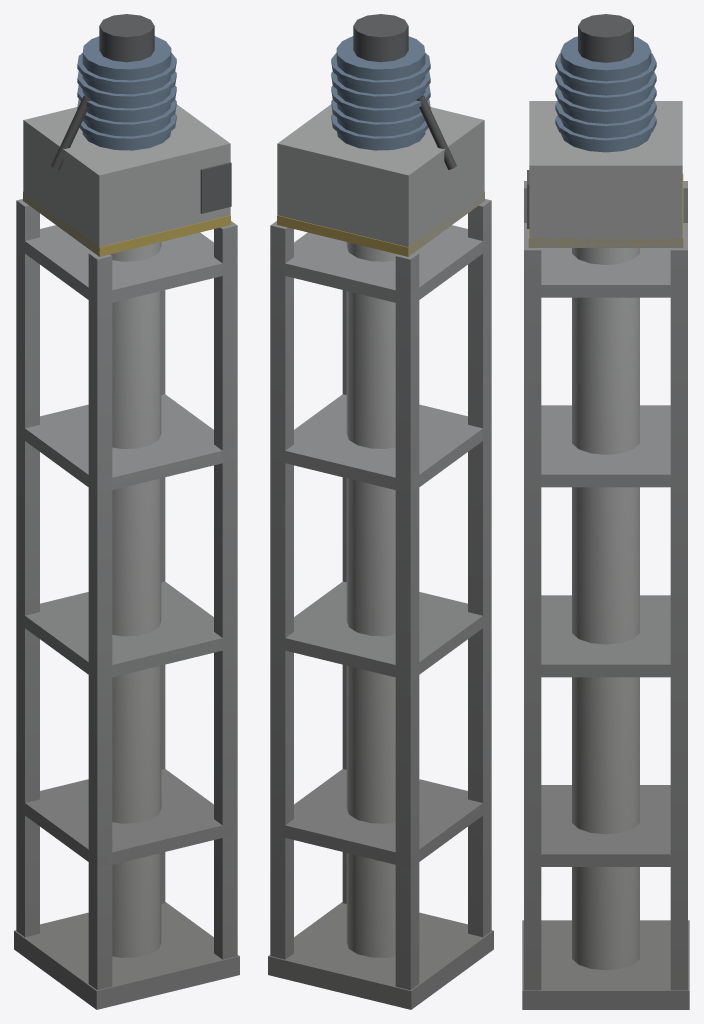
File: controlRod_steel.glb
The picture shows the model from 3 angles, left to right: view 1: azimuth 30°, elevation 25°; view 2: azimuth 150°, elevation 25°; view 3: azimuth 270°, elevation 25°; orthographic projection.
Visible parts, largest first — view 1: controlRod_steel; view 2: controlRod_steel; view 3: controlRod_steel.
Boxes of the visible parts, box(x1,y1,x2,y2) form: controlRod_steel: box(14, 14, 239, 1009); controlRod_steel: box(268, 14, 493, 1009); controlRod_steel: box(522, 14, 689, 1009).
Bounding box in the file's own units: 0.4931 × 3 × 0.48.
